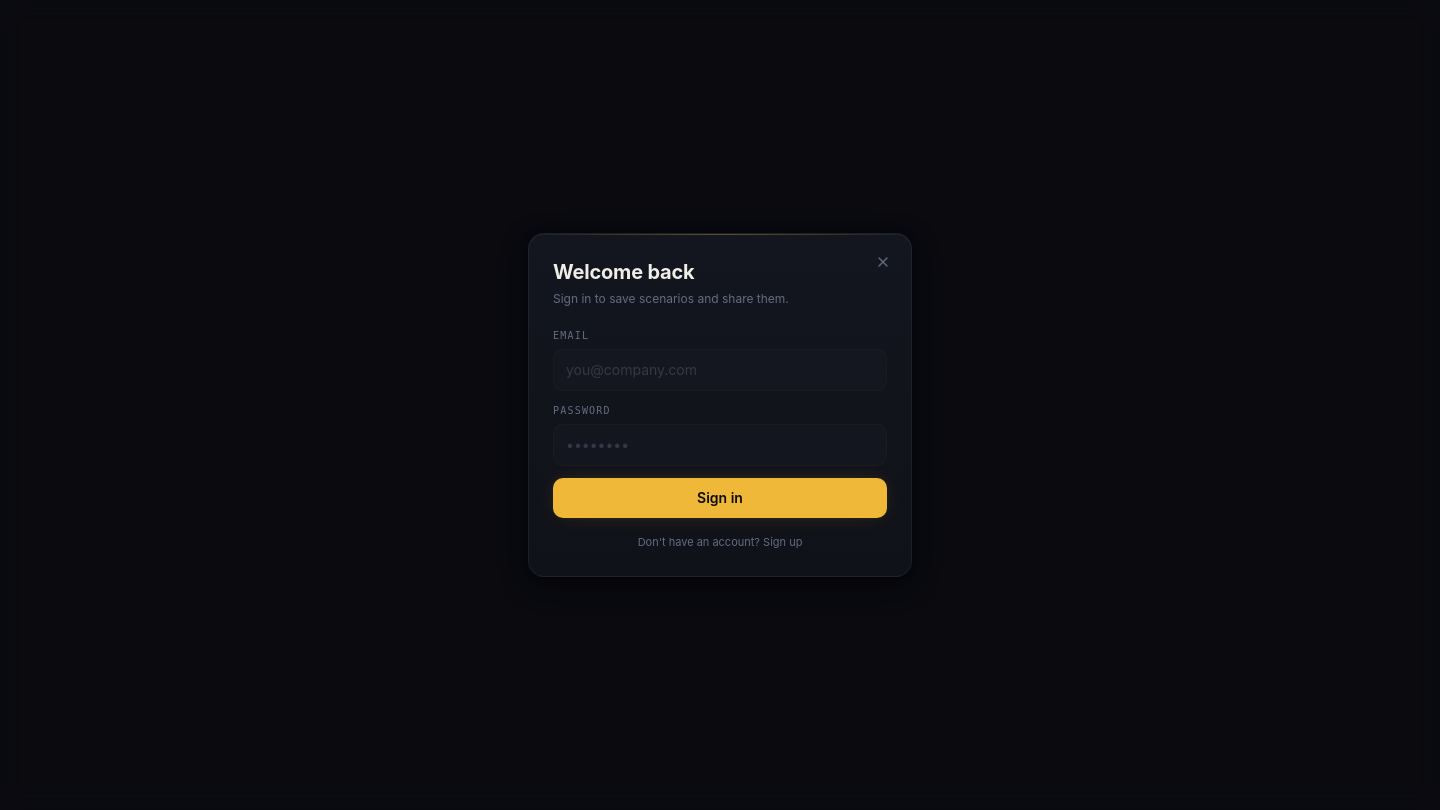
AuthDialog › renders authentication errors
Type "ceo@example.com" into the field labelled "Email" at (720, 370), box left=553, top=349, right=887, bottom=391
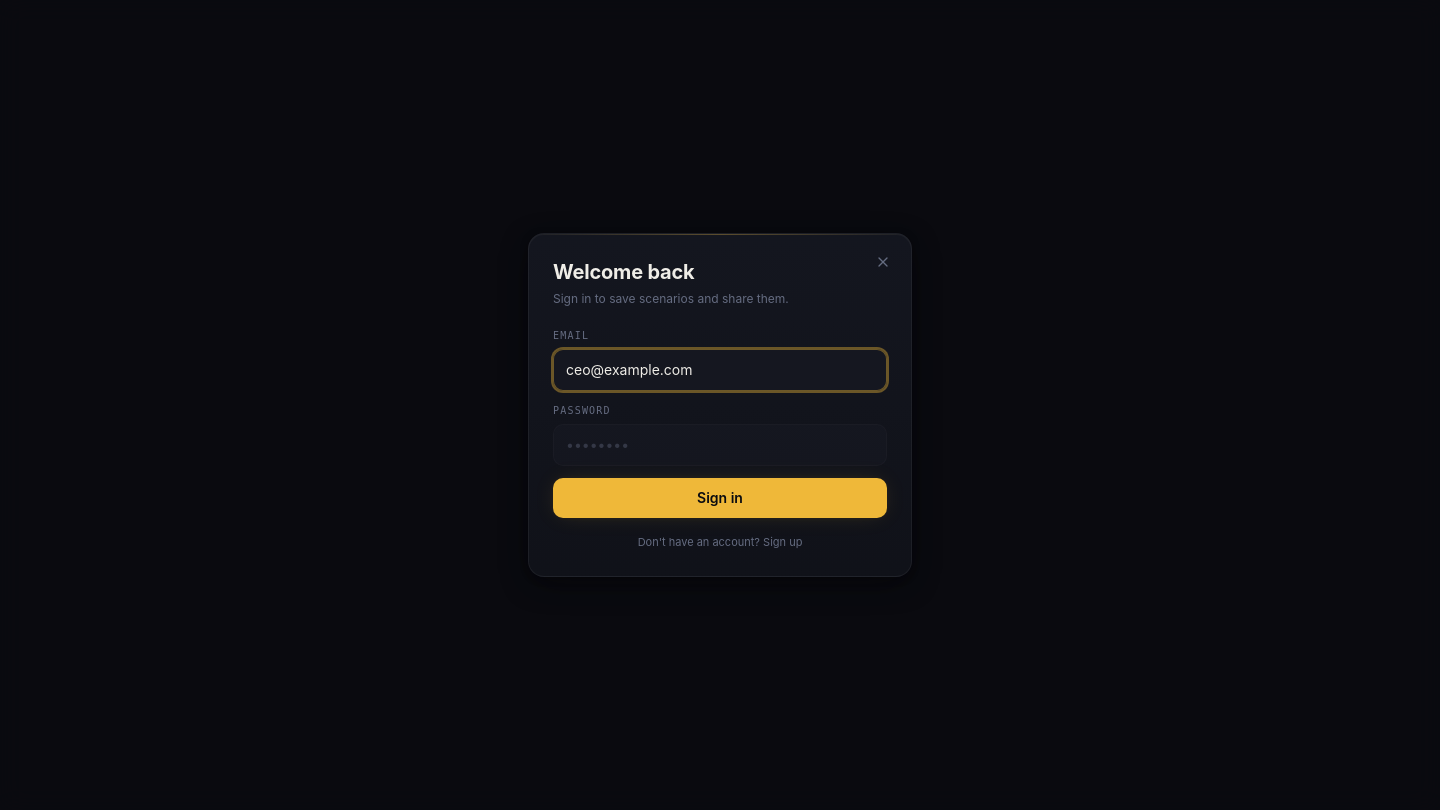
Type "wrong-pass" into the password field labelled "Password" at (720, 445), box left=553, top=424, right=887, bottom=466
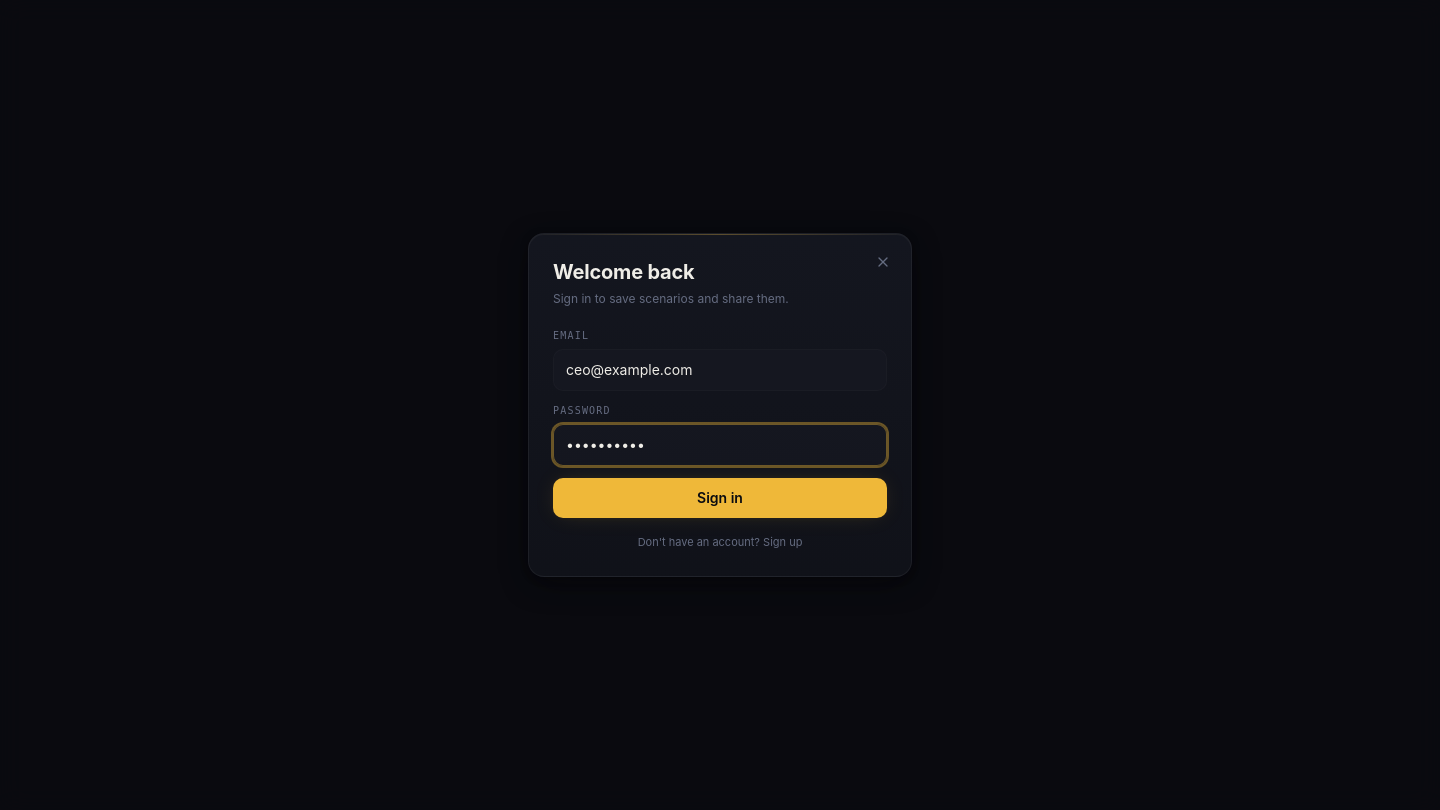
Click the button "Sign in" at (720, 498), box left=553, top=478, right=887, bottom=518
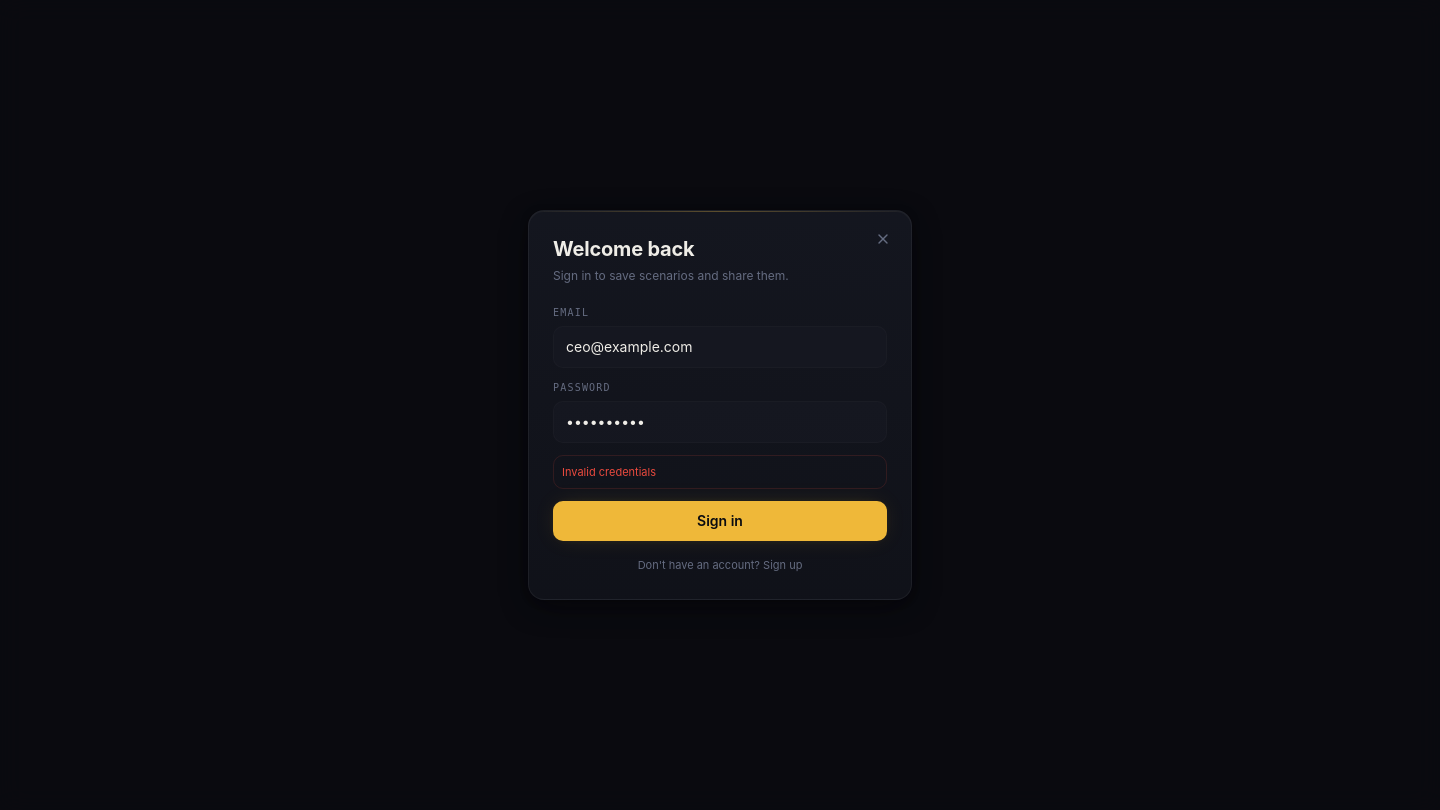
Now the text "Invalid credentials" is shown, box left=553, top=455, right=887, bottom=489
